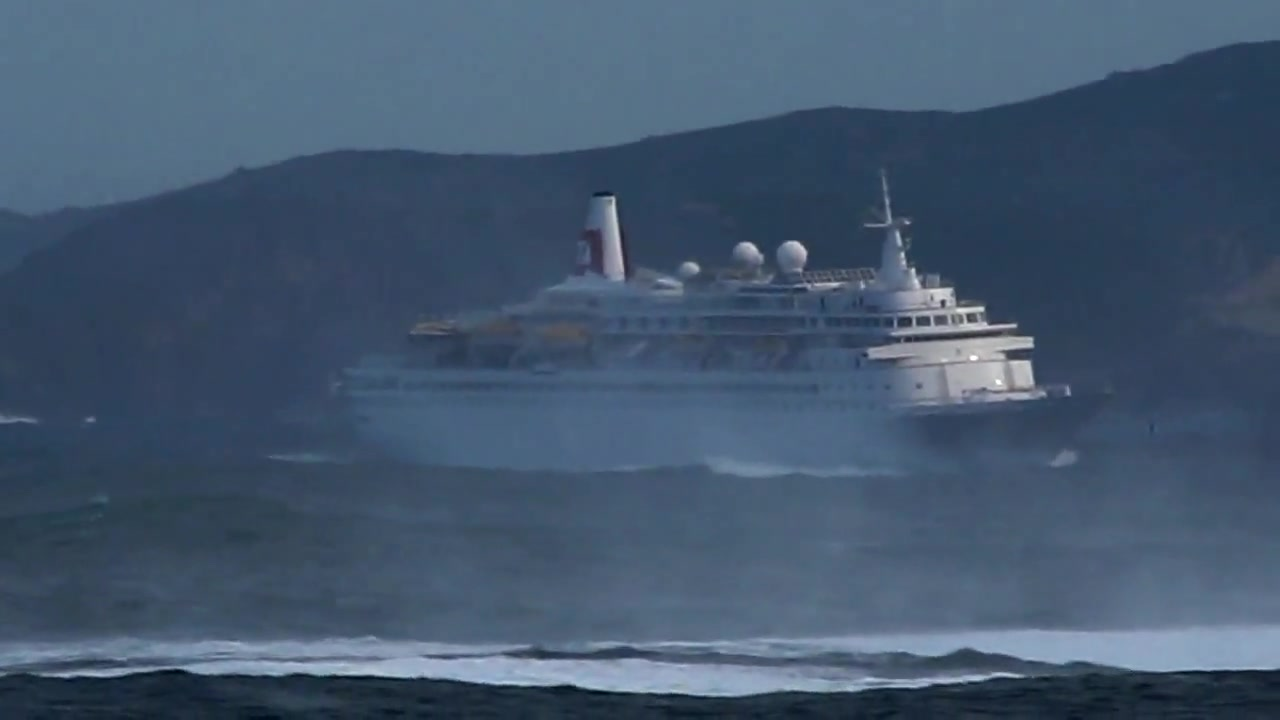boat: (331, 168, 1118, 475)
